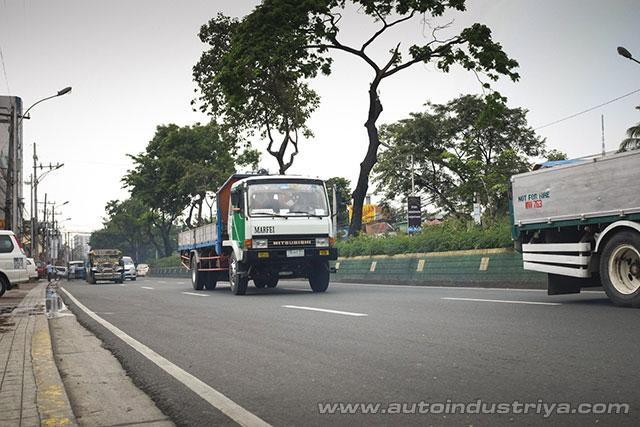jeepney: (85, 242, 129, 287)
truck: (501, 150, 640, 305), (177, 171, 342, 295)
